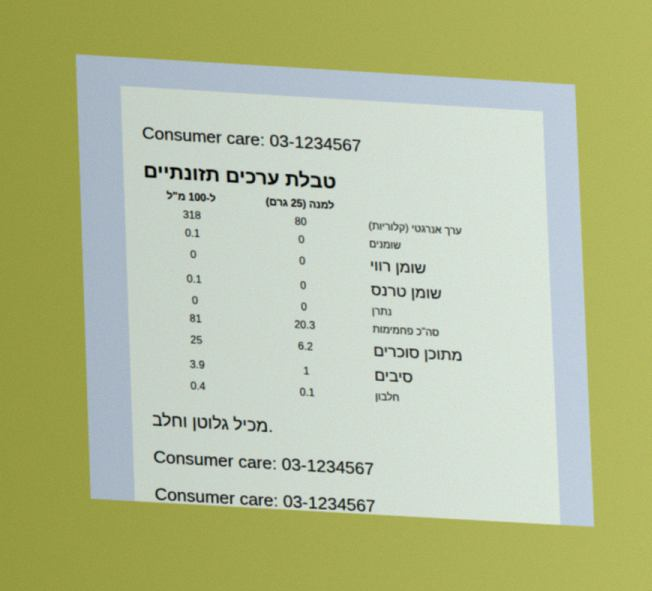carbs: (188, 311, 203, 326)
energy: (181, 208, 202, 223)
fat: (183, 226, 201, 240)
protein: (189, 379, 207, 393)
